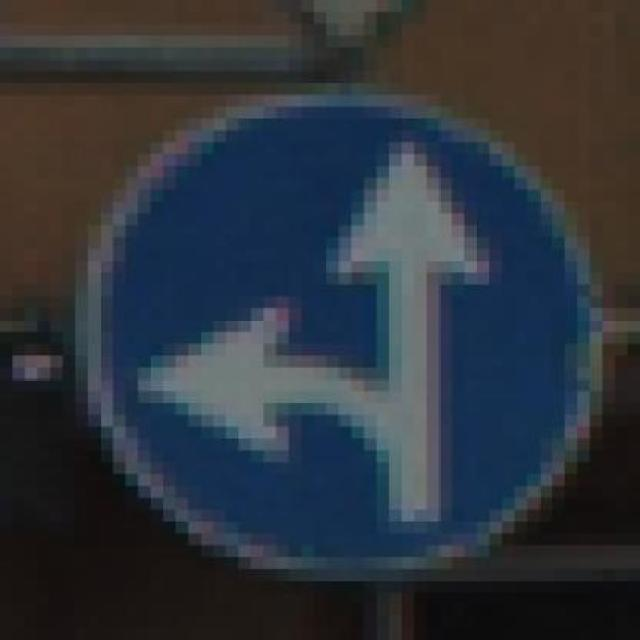Go straight or turn left: (75, 70, 616, 604)
